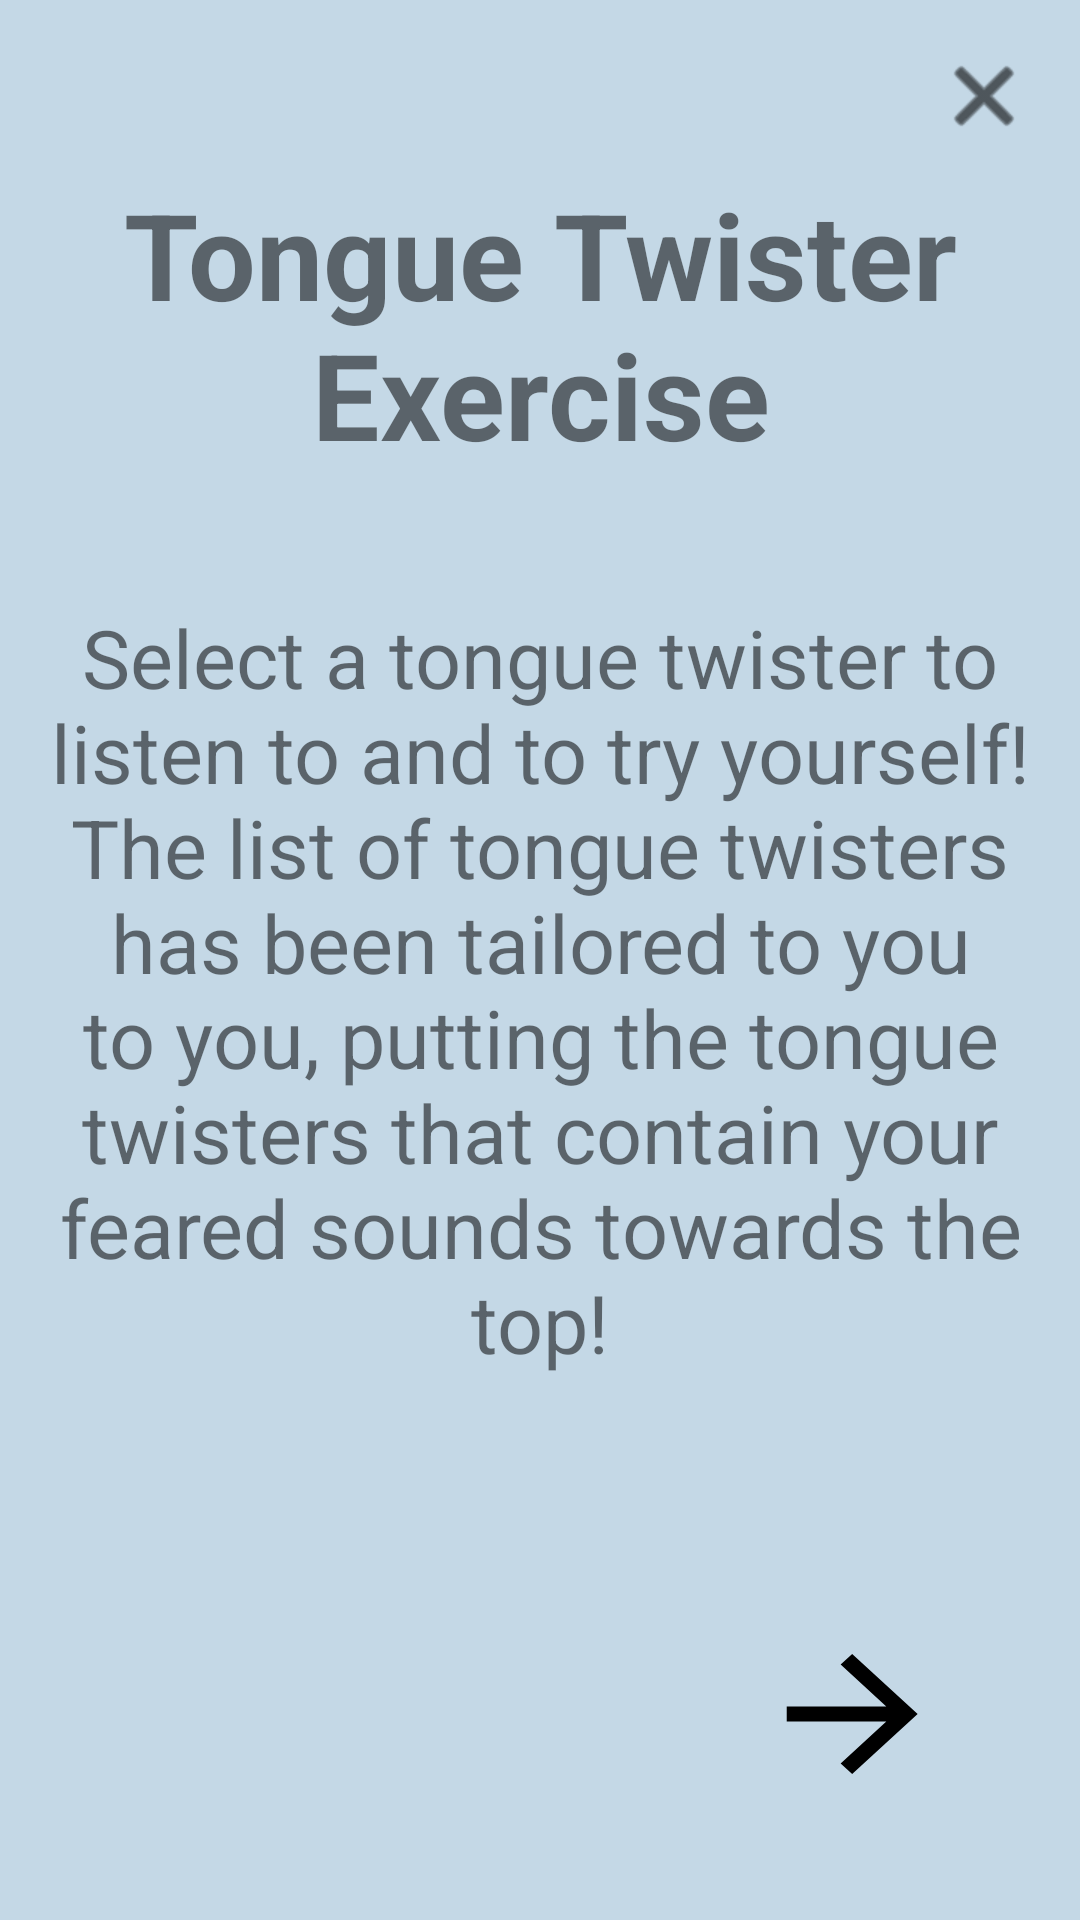

Where to tap for icons on this 1080w x 1920h app screen, as (x,y):
close: (984,96)
Next Button: (852,1714)
